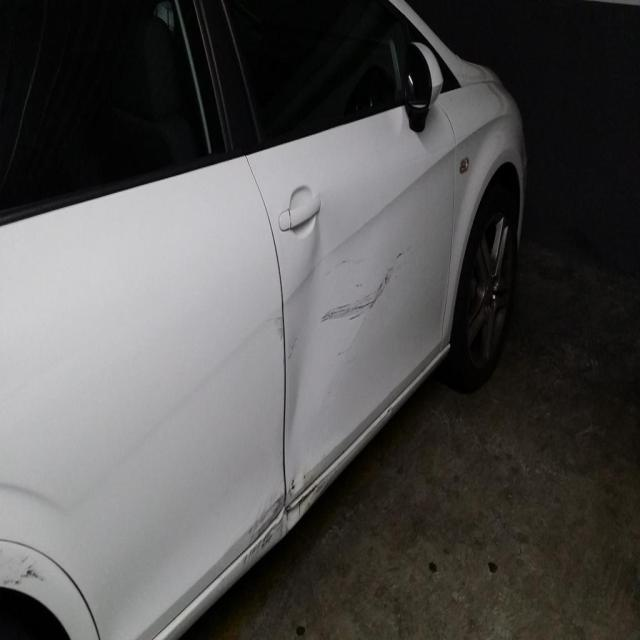Damage: (256, 178, 412, 569)
